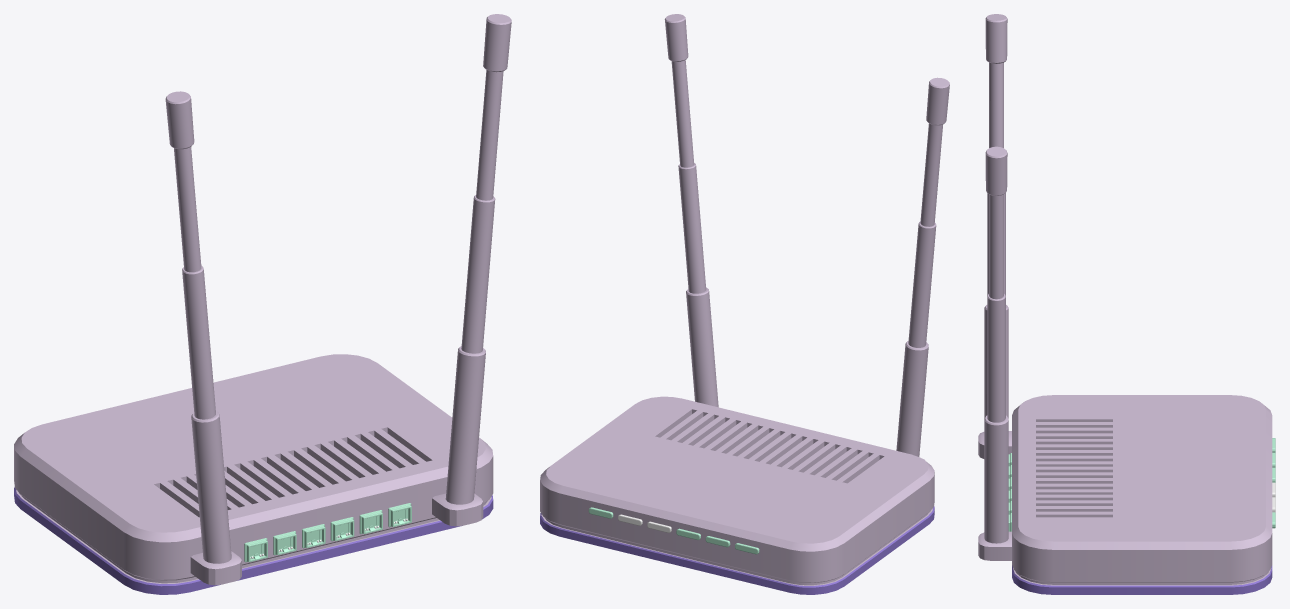
File: router.glb
3 views of the same model, side by side, from view 1: azimuth 30°, elevation 25°; view 2: azimuth 150°, elevation 25°; view 3: azimuth 270°, elevation 25° (orthographic). The views are drawn at different scales.
Parts seen in each view (by area): view 1: Object_6, Object_3, Object_2; view 2: Object_6, Object_3, Object_2; view 3: Object_6, Object_3, Object_2.
Boxes of the visible parts, left/top/right/bottom form: Object_6: left=14, top=14, right=511, bottom=585; Object_3: left=14, top=487, right=493, bottom=594; Object_2: left=244, top=503, right=411, bottom=562; Object_6: left=540, top=14, right=949, bottom=585; Object_3: left=540, top=506, right=934, bottom=594; Object_2: left=588, top=507, right=759, bottom=554; Object_6: left=978, top=14, right=1272, bottom=585; Object_3: left=1012, top=565, right=1272, bottom=594; Object_2: left=1008, top=438, right=1275, bottom=531.
Bounding box in the file's own units: 13.79 × 18.44 × 11.41.
